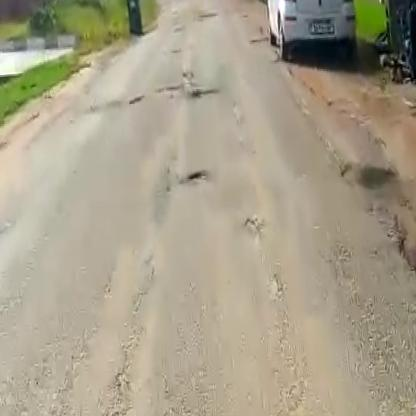pothole: (179, 168, 208, 188)
